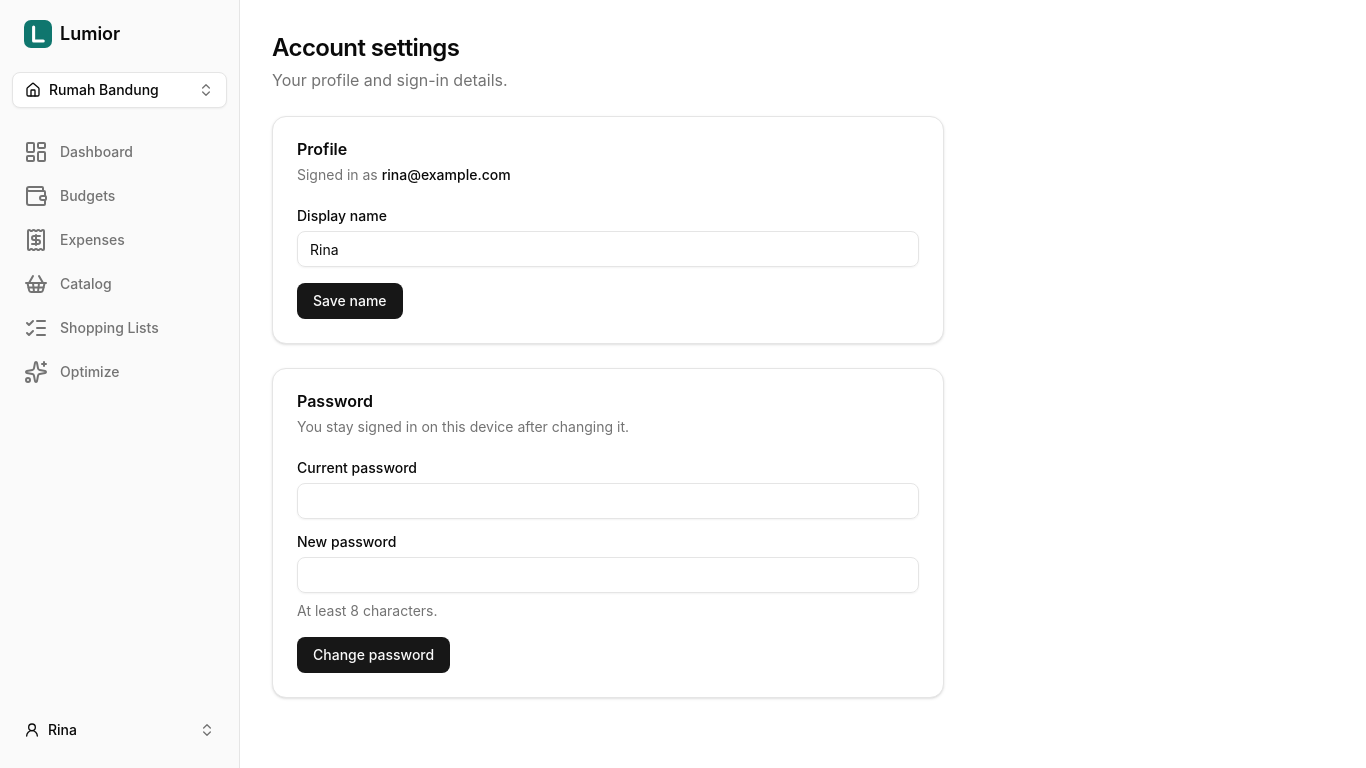
Test: account settings › changing the password clears both fields and keeps the user signed in
Type "password123" into the password field labelled "Current password".
click(608, 501); type("password123")  # box [297,483,919,519]
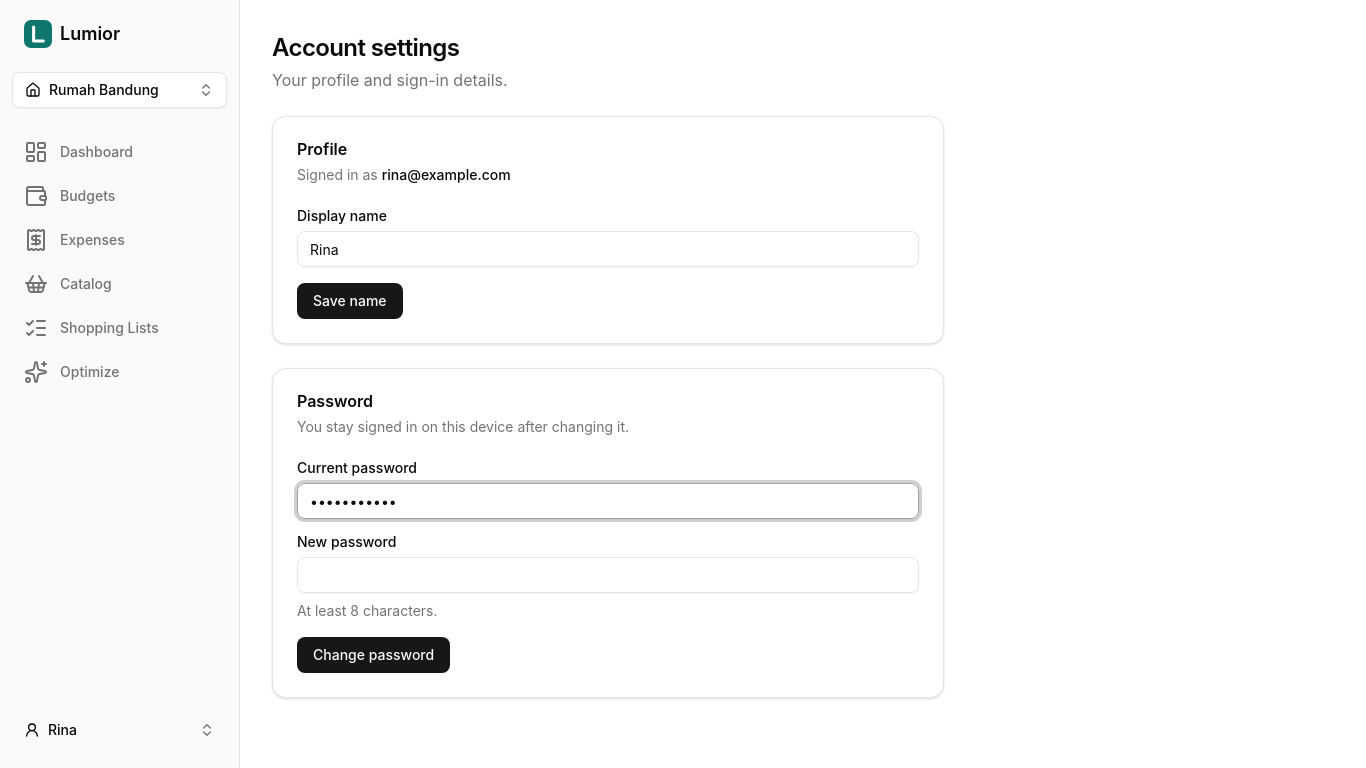
Type "a-new-password" into the password field labelled "New password".
click(608, 575); type("a-new-password")  # box [297,557,919,593]
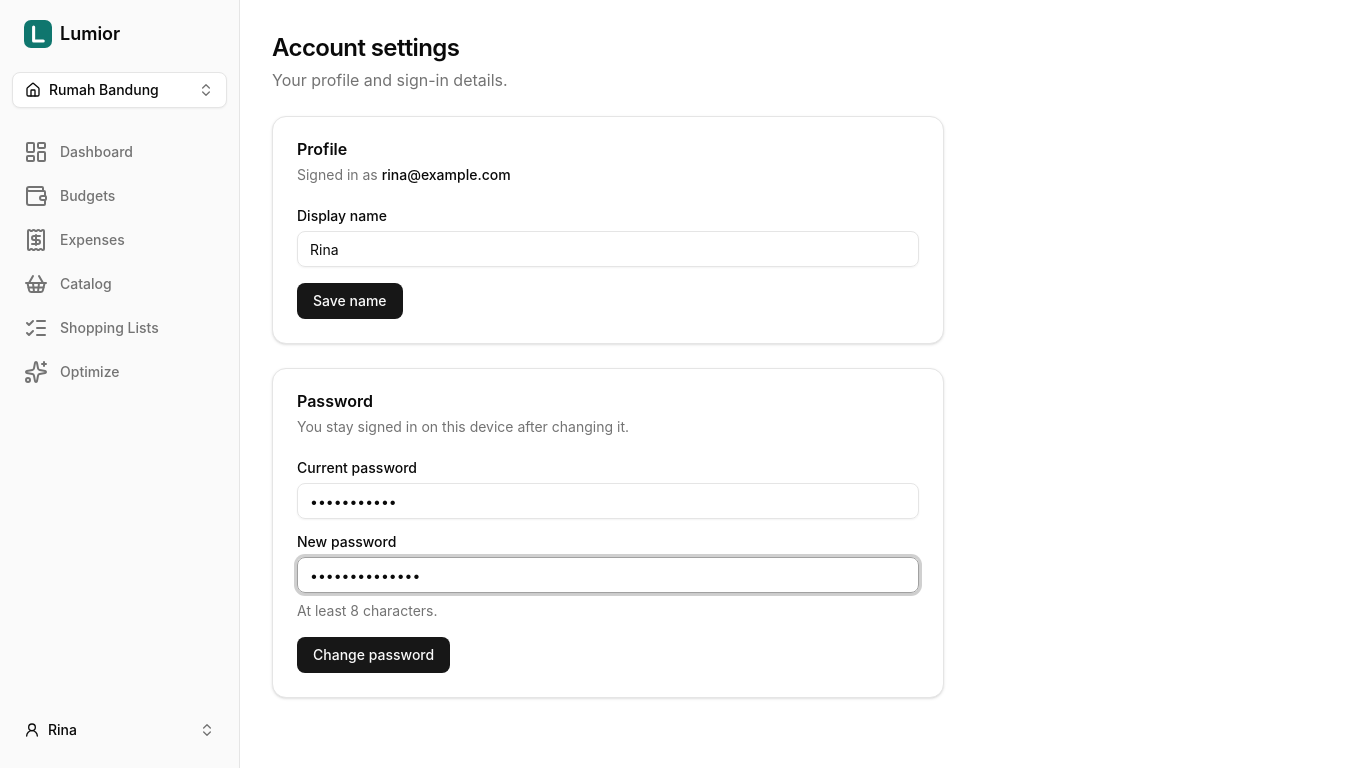
Click the button "Change password".
click(374, 655)  # box [297,637,450,673]
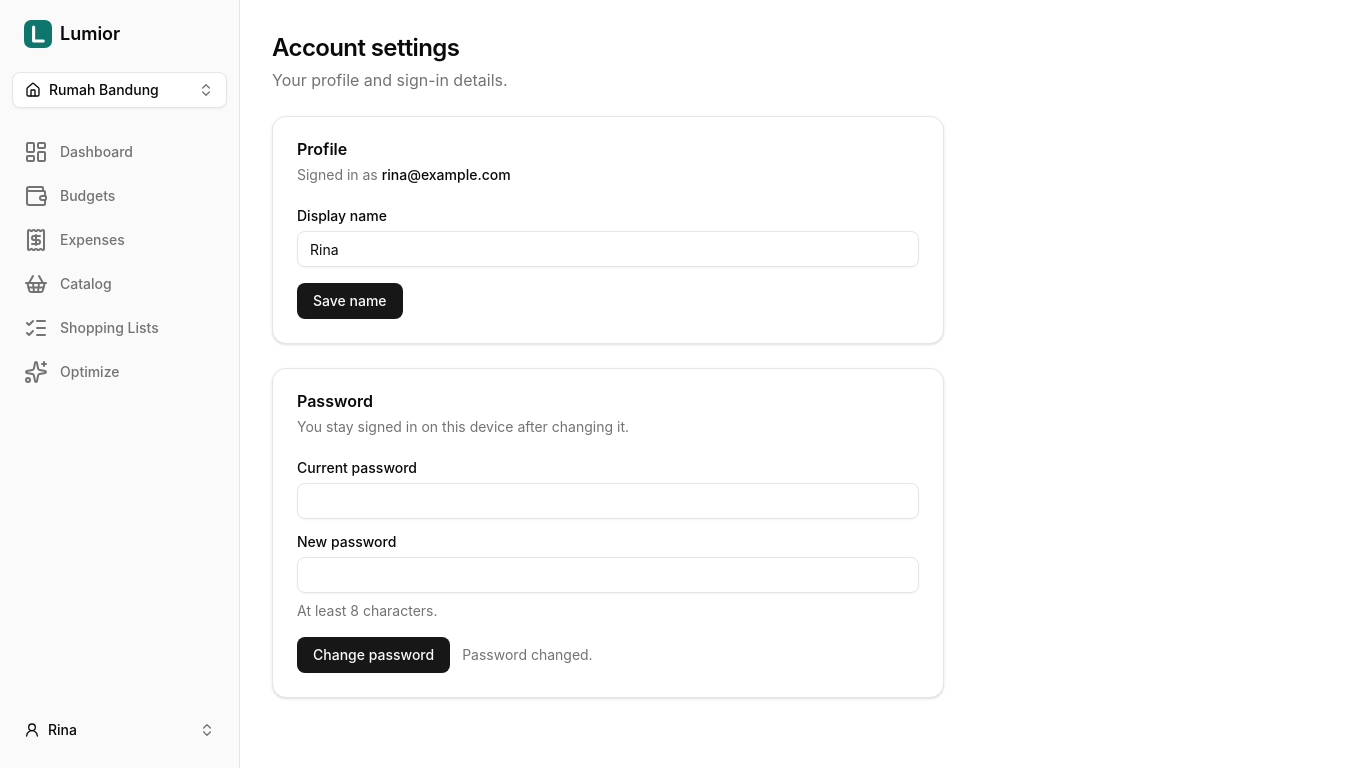
Result: the text "Password changed." is shown at [462,645,593,665]
Result: the password field labelled "Current password" is empty at [297,483,919,519]
Result: the password field labelled "New password" is empty at [297,557,919,593]
